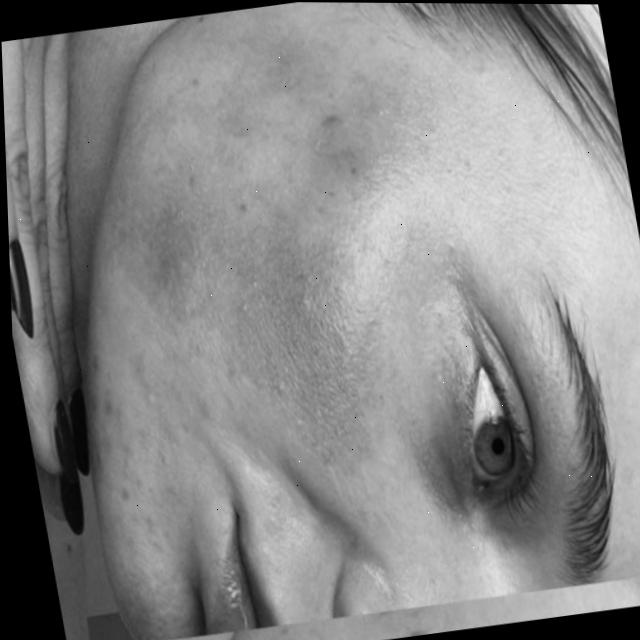Rosacea: (108, 98, 489, 486)
